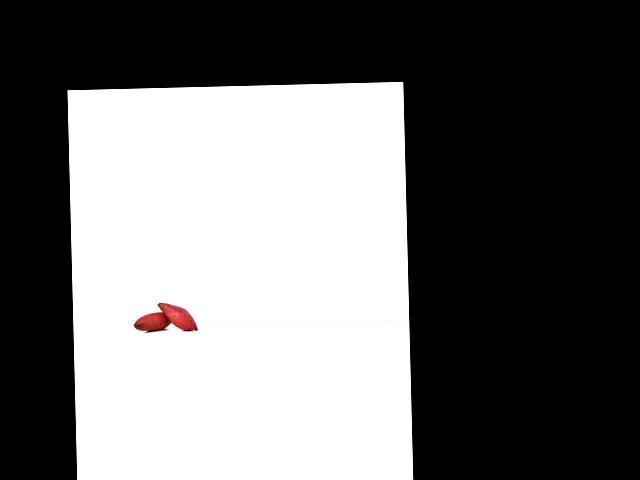sweet_potato: (132, 309, 174, 331)
